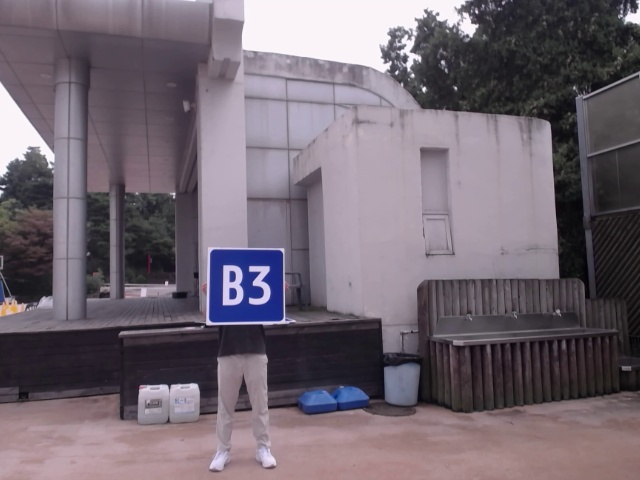delivery_b3: (208, 248, 285, 323)
